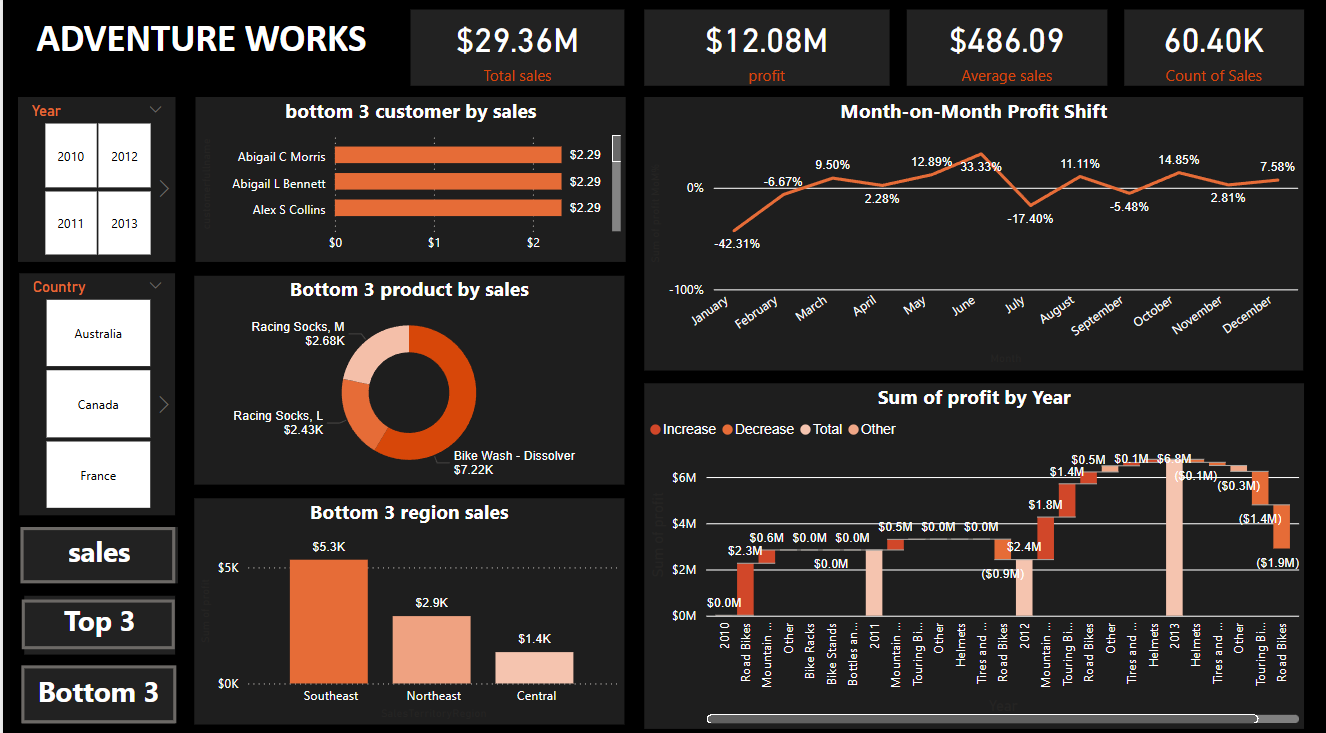

Layout of this report page (visuals, bound fields, positions):
{"tool":"powerbi","page":{"name":"dashboard","canvas":[1280,720],"ordinal":0},"visuals":[{"type":"card","fields":{"Values":["fact_sales.SalesAmount"]},"box":[393.3,11.7,206.7,73.3],"z":0},{"type":"card","fields":{"Values":["fact_sales.SalesAmount"]},"box":[871.7,11.7,193.3,73.3],"z":1000},{"type":"card","fields":{"Values":["fact_sales.profit"]},"box":[618.3,11.7,236.7,73.3],"z":2000},{"type":"card","fields":{"Values":["fact_sales.SalesAmount"]},"box":[1081.7,11.7,173.3,73.3],"z":3000},{"type":"pieChart","title":"top 3 products by sales","fields":{"Category":["DimProduct.EnglishProductName"],"Y":["fact_sales.SalesAmount"]},"box":[185,270,415,200],"z":7000},{"type":"columnChart","title":"top 3 markets by sales","fields":{"Category":["DimSalesTerritory.SalesTerritoryRegion"],"Y":["fact_sales.SalesAmount"]},"box":[185,483.3,415,221.7],"z":8000},{"type":"slicer","title":"COUNTRY","fields":{"Values":["DimSalesTerritory.SalesTerritoryCountry"]},"box":[16,266.7,150.6,233.3],"z":9000},{"type":"slicer","title":"YEAR","fields":{"Values":["fact_sales.OrderDate.Variation.Date Hierarchy.Year"]},"box":[14.8,96.3,151.9,159.3],"z":10000},{"type":"lineChart","title":"Month-on-Month Profit Shift","fields":{"Y":["DimDate.Sum of profit MoM%"],"Category":["fact_sales.OrderDate.Variation.Date Hierarchy.Year","fact_sales.OrderDate.Variation.Date Hierarchy.Quarter","fact_sales.OrderDate.Variation.Date Hierarchy.Month","fact_sales.OrderDate.Variation.Date Hierarchy.Day"]},"box":[618.8,96.2,636.2,263.8],"z":11000},{"type":"waterfallChart","title":"Sum of profit by Year ","fields":{"Category":["fact_sales.OrderDate.Variation.Date Hierarchy.Year","fact_sales.OrderDate.Variation.Date Hierarchy.Quarter","fact_sales.OrderDate.Variation.Date Hierarchy.Month","fact_sales.OrderDate.Variation.Date Hierarchy.Day"],"Breakdown":["DimProdSubCategory.EnglishProductSubcategoryName"],"Y":["fact_sales.profit"]},"box":[618.5,372.8,637,333.3],"z":12000},{"type":"textbox","box":[10,11.7,363.3,73.3],"z":13000},{"type":"textbox","box":[21,577.8,145.7,56.8],"z":15000},{"type":"actionButton","box":[18.5,581.5,148.1,48.1],"z":16000},{"type":"textbox","box":[18.5,646.9,148.1,55.6],"z":17000},{"type":"actionButton","box":[17.3,644.4,151.9,58],"z":18000},{"type":"textbox","box":[17.3,511.1,151.9,54.3],"z":19000},{"type":"actionButton","box":[17.3,511.1,149.4,54.3],"z":20000},{"type":"barChart","title":"top 3 customer by sales","fields":{"Category":["Dimcustomer.customerfullname"],"Y":["fact_sales.SalesAmount"]},"box":[185.6,96.7,414.4,158.9],"z":23000}]}

Visuals, with their boxes in screenshot pixels (x1, y1, x2, y2), scaled from the page's 1280x720 canvas onto the 1326x733 screenshot:
card - fact_sales.SalesAmount: {"left": 407, "top": 12, "right": 622, "bottom": 87}
card - fact_sales.SalesAmount: {"left": 903, "top": 12, "right": 1103, "bottom": 87}
card - fact_sales.profit: {"left": 641, "top": 12, "right": 886, "bottom": 87}
card - fact_sales.SalesAmount: {"left": 1121, "top": 12, "right": 1300, "bottom": 87}
"top 3 products by sales" pieChart: {"left": 192, "top": 275, "right": 622, "bottom": 478}
"top 3 markets by sales" columnChart: {"left": 192, "top": 492, "right": 622, "bottom": 718}
"COUNTRY" slicer: {"left": 17, "top": 272, "right": 173, "bottom": 509}
"YEAR" slicer: {"left": 15, "top": 98, "right": 173, "bottom": 260}
"Month-on-Month Profit Shift" lineChart: {"left": 641, "top": 98, "right": 1300, "bottom": 366}
"Sum of profit by Year " waterfallChart: {"left": 641, "top": 380, "right": 1301, "bottom": 719}
textbox: {"left": 10, "top": 12, "right": 387, "bottom": 87}
textbox: {"left": 22, "top": 588, "right": 173, "bottom": 646}
actionButton: {"left": 19, "top": 592, "right": 173, "bottom": 641}
textbox: {"left": 19, "top": 659, "right": 173, "bottom": 715}
actionButton: {"left": 18, "top": 656, "right": 175, "bottom": 715}
textbox: {"left": 18, "top": 520, "right": 175, "bottom": 576}
actionButton: {"left": 18, "top": 520, "right": 173, "bottom": 576}
"top 3 customer by sales" barChart: {"left": 192, "top": 98, "right": 622, "bottom": 260}
